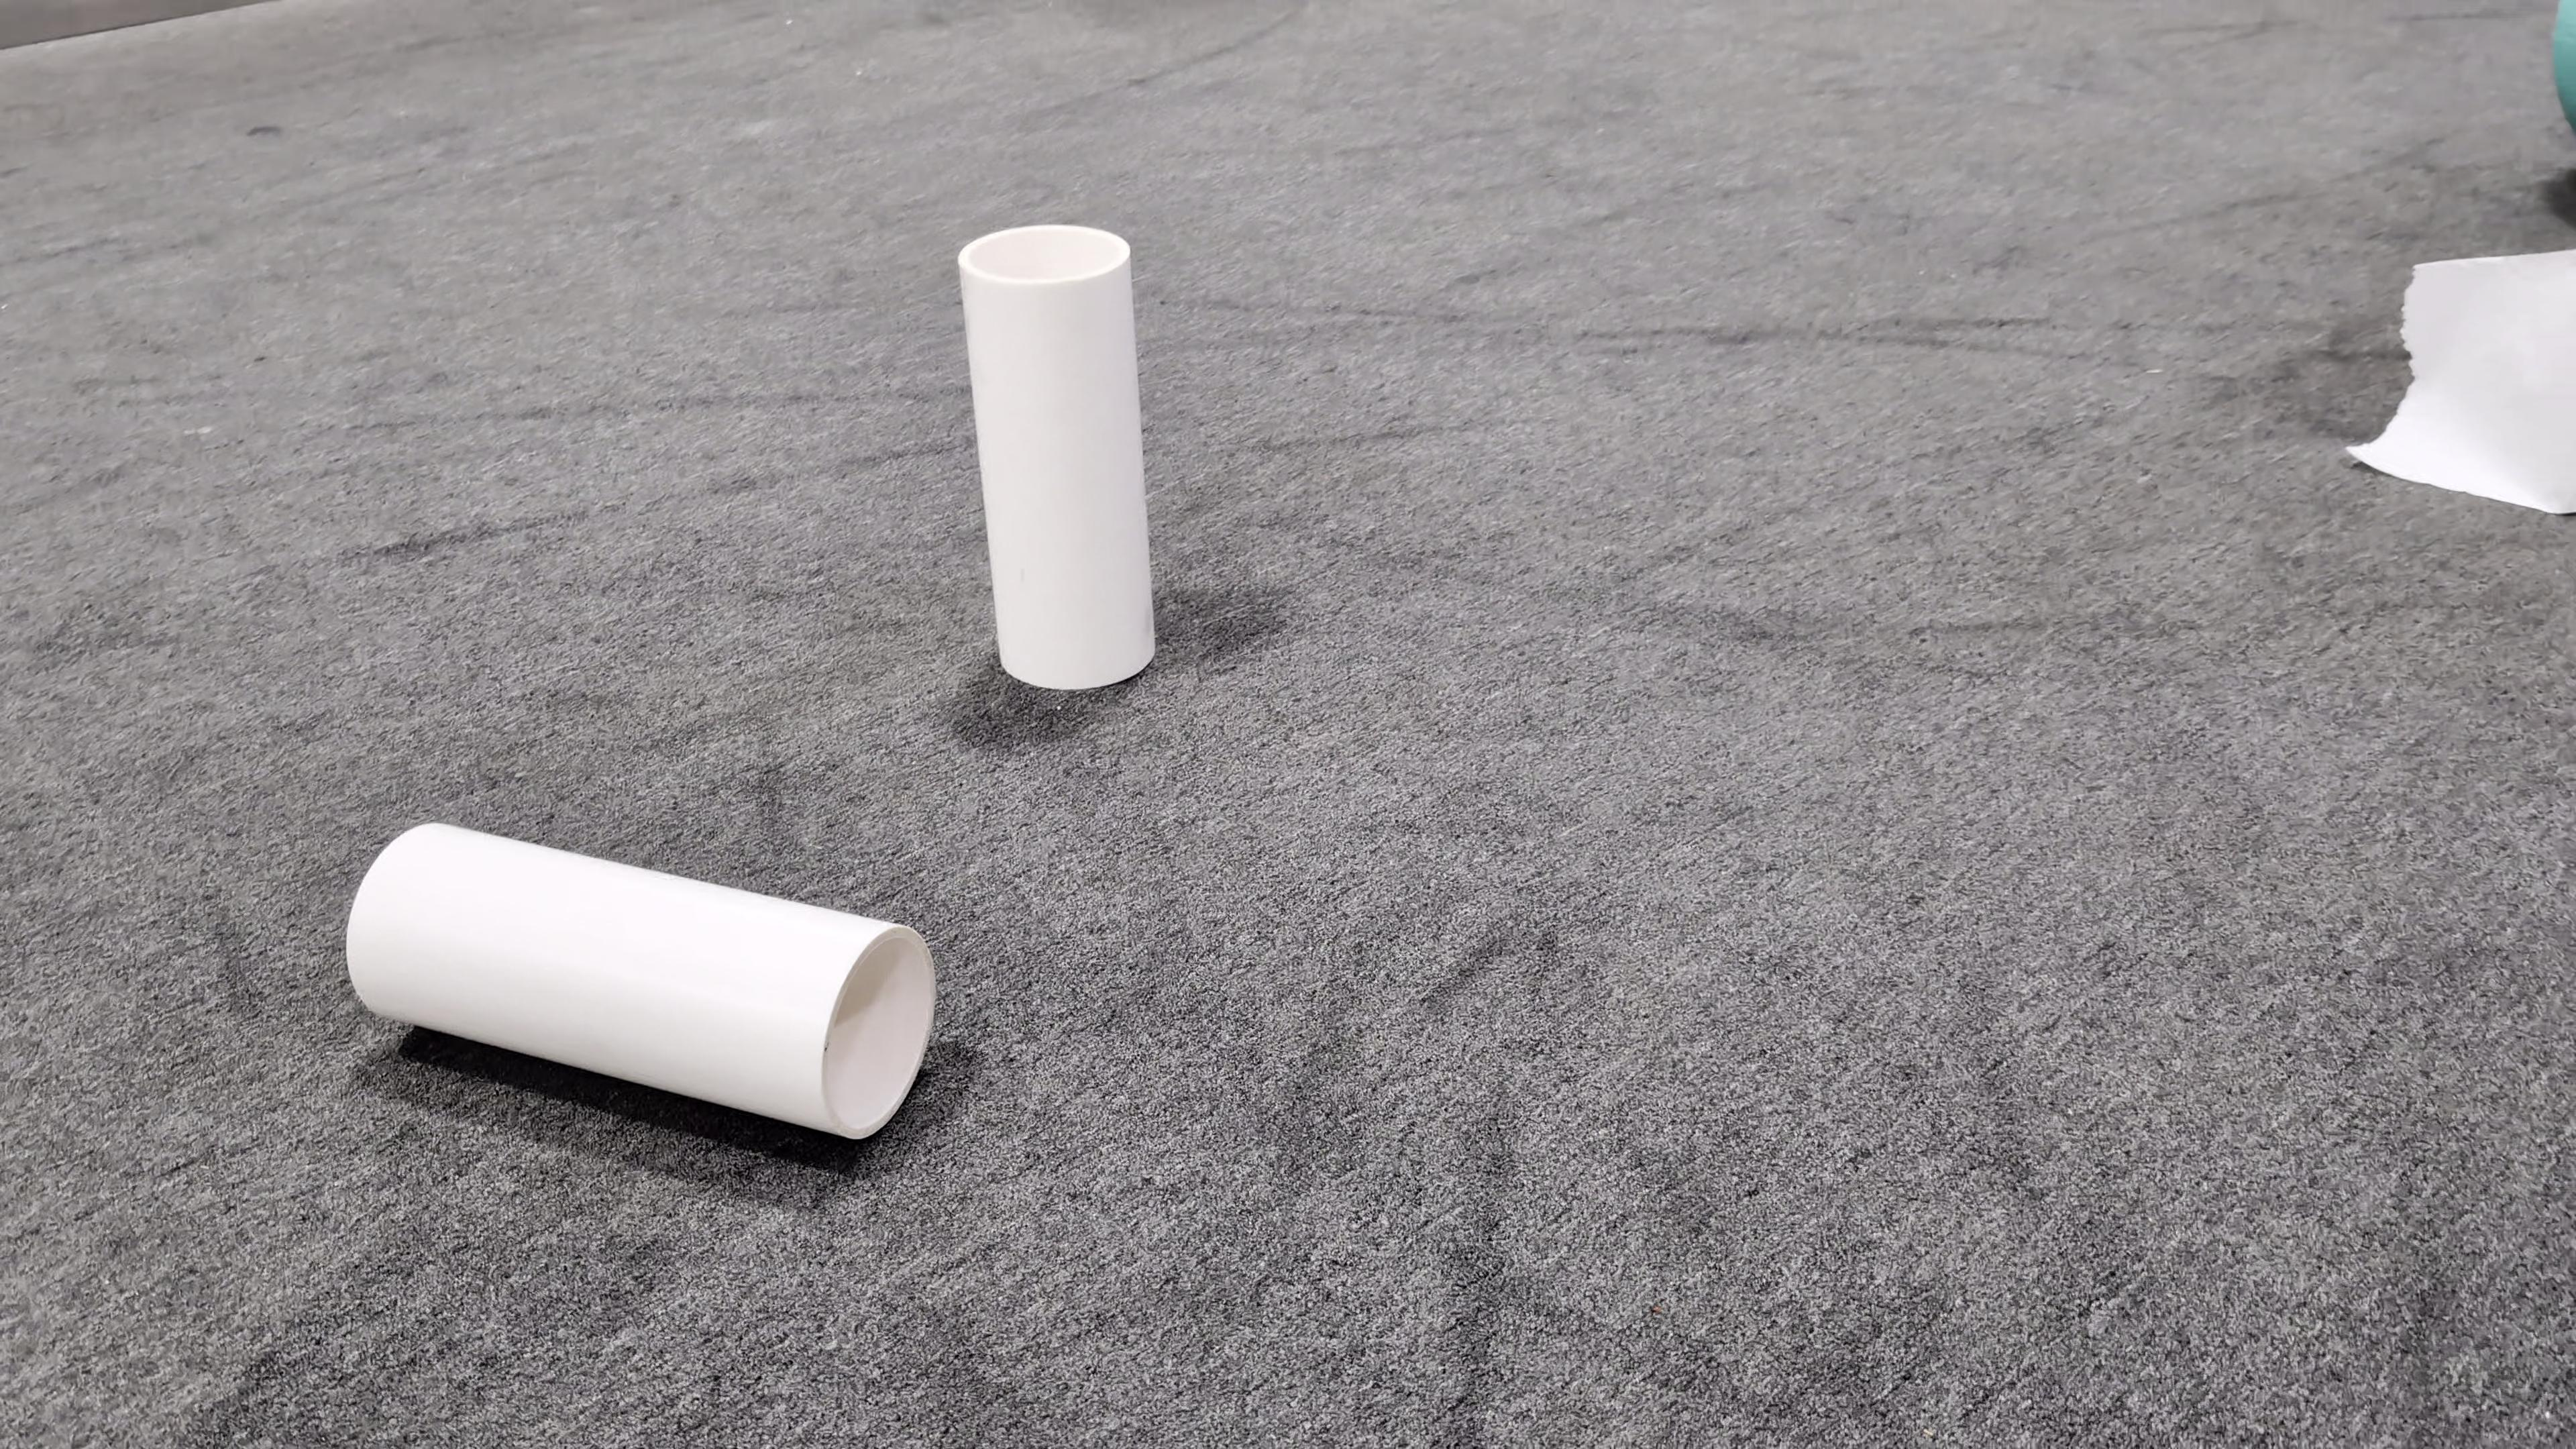coral: (345, 816, 938, 1141), (954, 221, 1161, 688)
